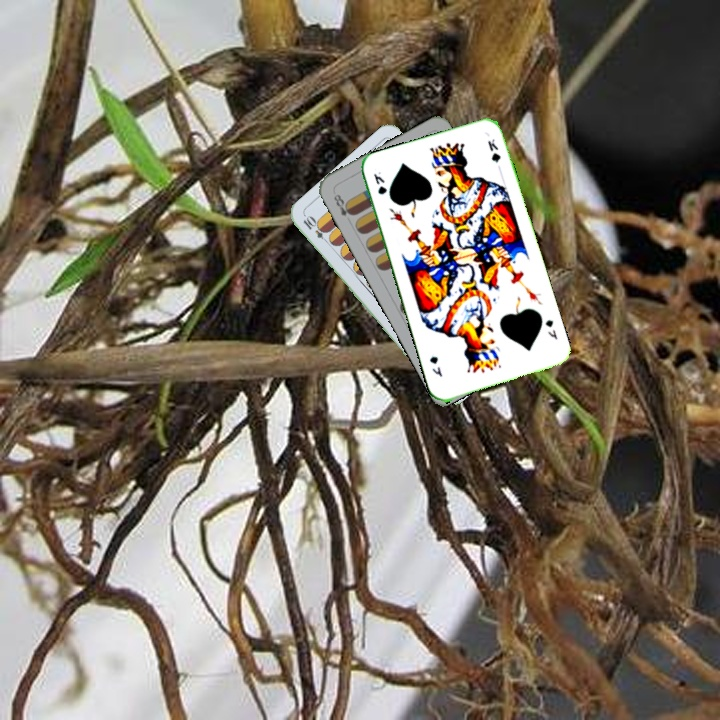E10: (299, 212, 333, 247)
E8: (330, 190, 357, 219)
GK: (369, 167, 389, 197), (541, 315, 560, 342)
